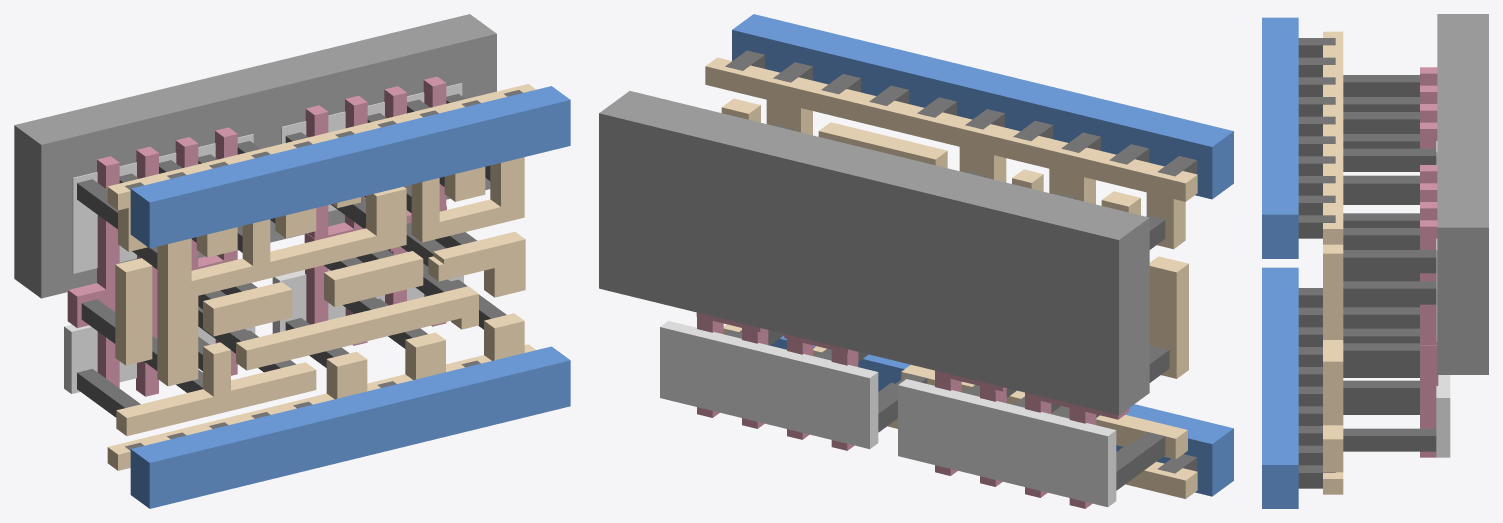
File: sky130_fd_sc_hd__o211ai_2.gds.gltf
The picture shows the model from 3 angles, left to right: view 1: azimuth 30°, elevation 25°; view 2: azimuth 150°, elevation 25°; view 3: azimuth 270°, elevation 25°; orthographic projection. The views are drawn at different scales.
Visible parts, largest first — view 1: sky130_fd_sc_hd__o211ai_2_li1, sky130_fd_sc_hd__o211ai_2_met1, sky130_fd_sc_hd__o211ai_2_nwell, sky130_fd_sc_hd__o211ai_2_poly, sky130_fd_sc_hd__o211ai_2_licon, sky130_fd_sc_hd__o211ai_2_diff, sky130_fd_sc_hd__o211ai_2_mcon; view 2: sky130_fd_sc_hd__o211ai_2_nwell, sky130_fd_sc_hd__o211ai_2_diff, sky130_fd_sc_hd__o211ai_2_li1, sky130_fd_sc_hd__o211ai_2_met1, sky130_fd_sc_hd__o211ai_2_mcon, sky130_fd_sc_hd__o211ai_2_poly, sky130_fd_sc_hd__o211ai_2_licon; view 3: sky130_fd_sc_hd__o211ai_2_licon, sky130_fd_sc_hd__o211ai_2_nwell, sky130_fd_sc_hd__o211ai_2_met1, sky130_fd_sc_hd__o211ai_2_mcon, sky130_fd_sc_hd__o211ai_2_li1, sky130_fd_sc_hd__o211ai_2_poly, sky130_fd_sc_hd__o211ai_2_diff.
Boxes of the visible parts, x1,y1,x2,y2 form: sky130_fd_sc_hd__o211ai_2_li1: (107, 84, 535, 470); sky130_fd_sc_hd__o211ai_2_met1: (130, 86, 570, 508); sky130_fd_sc_hd__o211ai_2_nwell: (14, 14, 496, 298); sky130_fd_sc_hd__o211ai_2_poly: (67, 76, 446, 396); sky130_fd_sc_hd__o211ai_2_licon: (77, 94, 506, 417); sky130_fd_sc_hd__o211ai_2_diff: (64, 83, 463, 393); sky130_fd_sc_hd__o211ai_2_mcon: (125, 90, 522, 450); sky130_fd_sc_hd__o211ai_2_nwell: (599, 91, 1149, 415); sky130_fd_sc_hd__o211ai_2_diff: (660, 321, 1116, 507); sky130_fd_sc_hd__o211ai_2_li1: (705, 57, 1197, 498); sky130_fd_sc_hd__o211ai_2_met1: (732, 14, 1233, 496); sky130_fd_sc_hd__o211ai_2_mcon: (725, 50, 1197, 473); sky130_fd_sc_hd__o211ai_2_poly: (696, 312, 1129, 508); sky130_fd_sc_hd__o211ai_2_licon: (724, 124, 1169, 490); sky130_fd_sc_hd__o211ai_2_licon: (1343, 75, 1436, 451); sky130_fd_sc_hd__o211ai_2_nwell: (1437, 14, 1488, 374); sky130_fd_sc_hd__o211ai_2_met1: (1262, 17, 1298, 508); sky130_fd_sc_hd__o211ai_2_mcon: (1298, 38, 1335, 488); sky130_fd_sc_hd__o211ai_2_li1: (1323, 31, 1343, 494); sky130_fd_sc_hd__o211ai_2_poly: (1420, 67, 1438, 457); sky130_fd_sc_hd__o211ai_2_diff: (1436, 141, 1450, 457).
Size of the model in its own units: 4.98 by 3.2 by 2.24.
